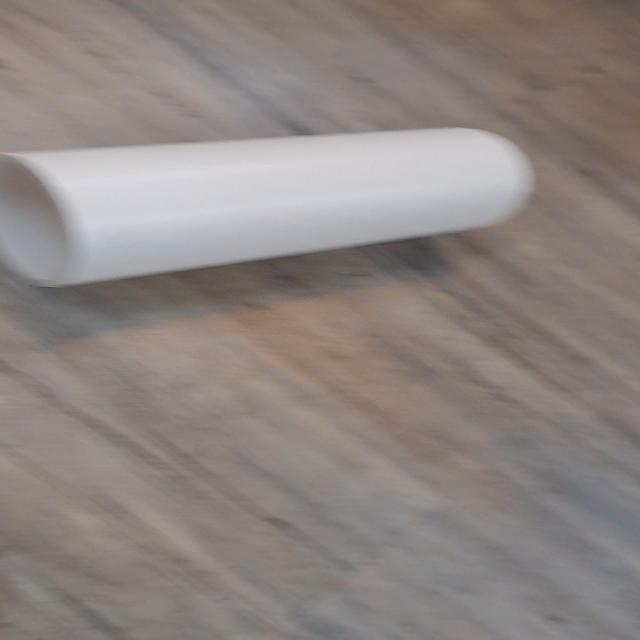CORAL: (0, 124, 547, 294)
